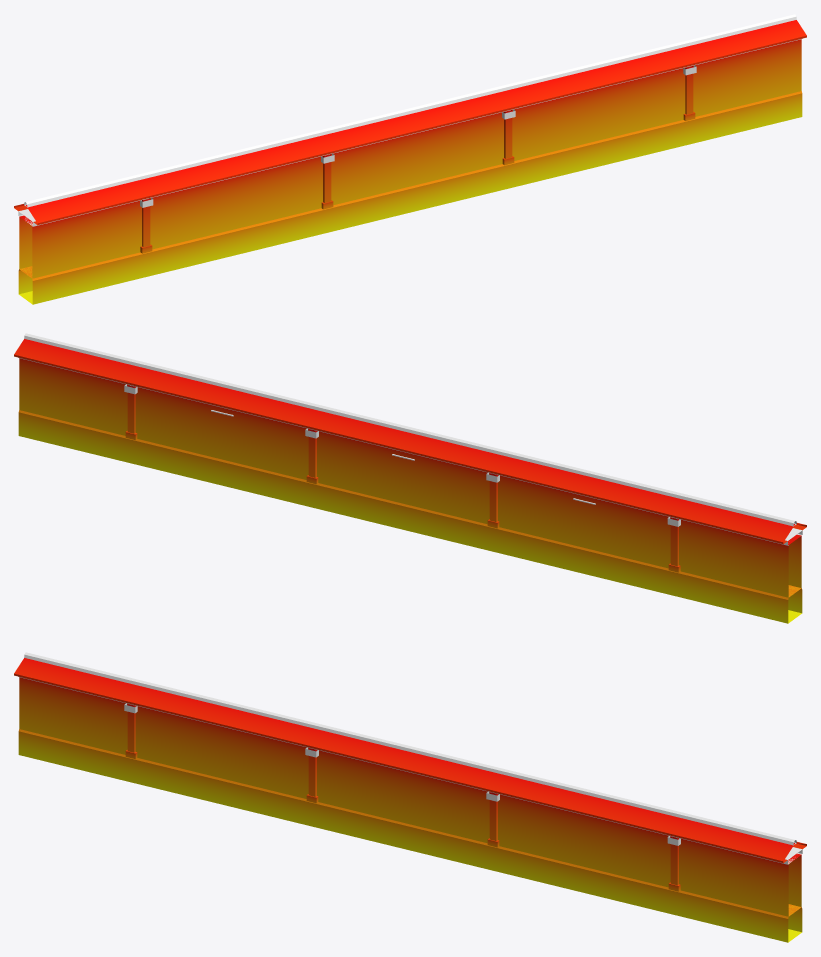
Rendered from SM_Env_WallS.fbx.
3 views of the same model, one above another, from view 1: azimuth 30°, elevation 25°; view 2: azimuth 150°, elevation 25°; view 3: azimuth 330°, elevation 25° (orthographic).
Visible parts, largest first — view 1: SM_Env_WallS; view 2: SM_Env_WallS; view 3: SM_Env_WallS.
Boxes of the visible parts, x1,y1,x2,y2 form: SM_Env_WallS: [14, 14, 806, 304]; SM_Env_WallS: [14, 333, 806, 623]; SM_Env_WallS: [14, 652, 806, 942].
Size of the model in its own units: 34 by 4.12 by 1.8.
